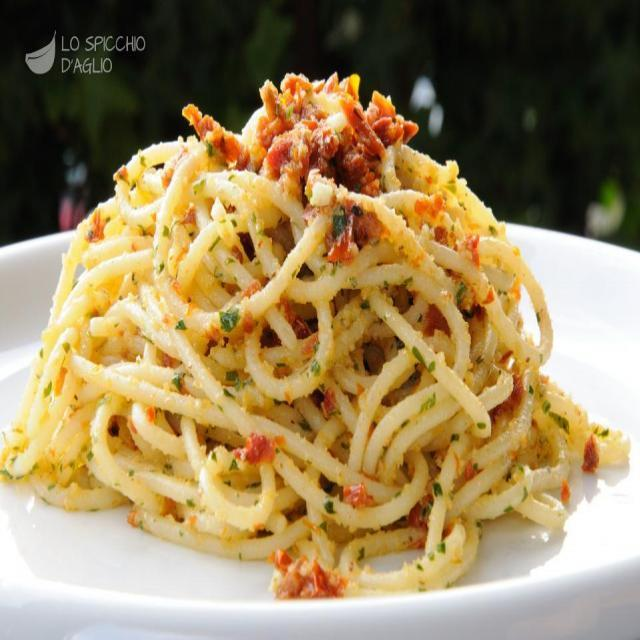Oil pasta: (69, 105, 577, 579)
